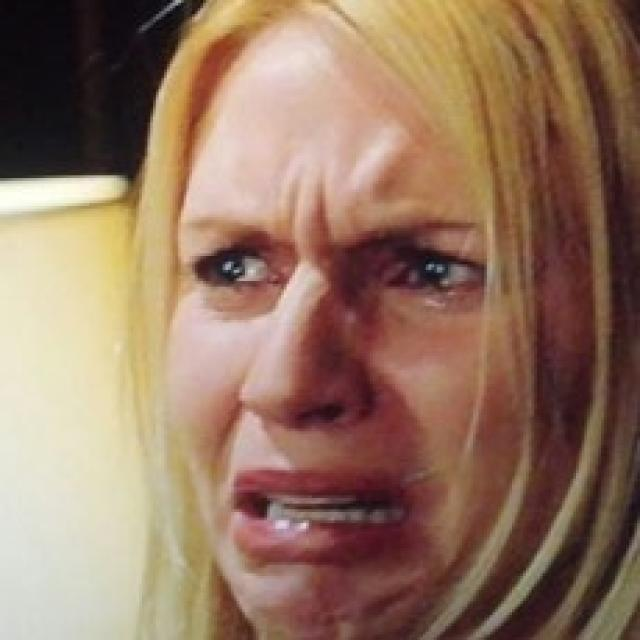Depress: (167, 25, 524, 637)
